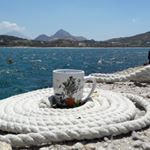cups: (49, 66, 98, 108)
